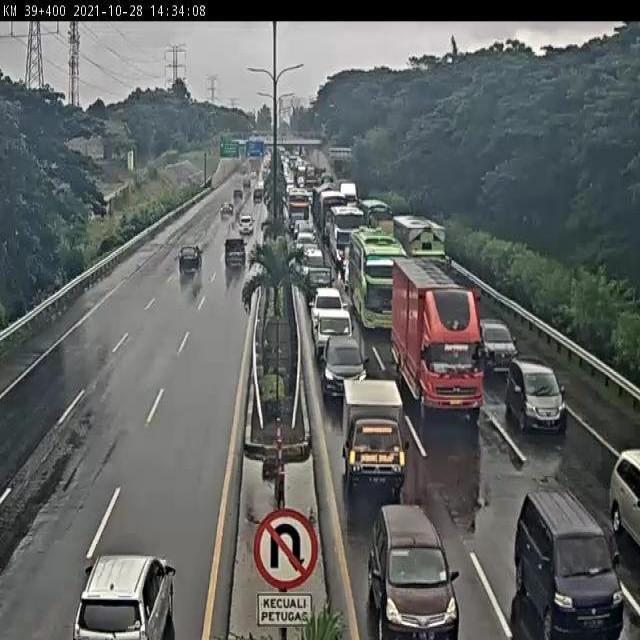car: (500, 484, 613, 628), (364, 492, 455, 633), (338, 368, 411, 496), (72, 554, 176, 640), (587, 420, 640, 541), (501, 355, 562, 427), (469, 319, 516, 368), (320, 331, 361, 387), (313, 303, 352, 357), (305, 268, 337, 308), (299, 241, 326, 279), (307, 283, 346, 308), (221, 235, 248, 271), (178, 243, 203, 279), (296, 228, 315, 251)
truck: (389, 256, 481, 415), (348, 228, 401, 329), (392, 212, 456, 284), (329, 208, 369, 264)
